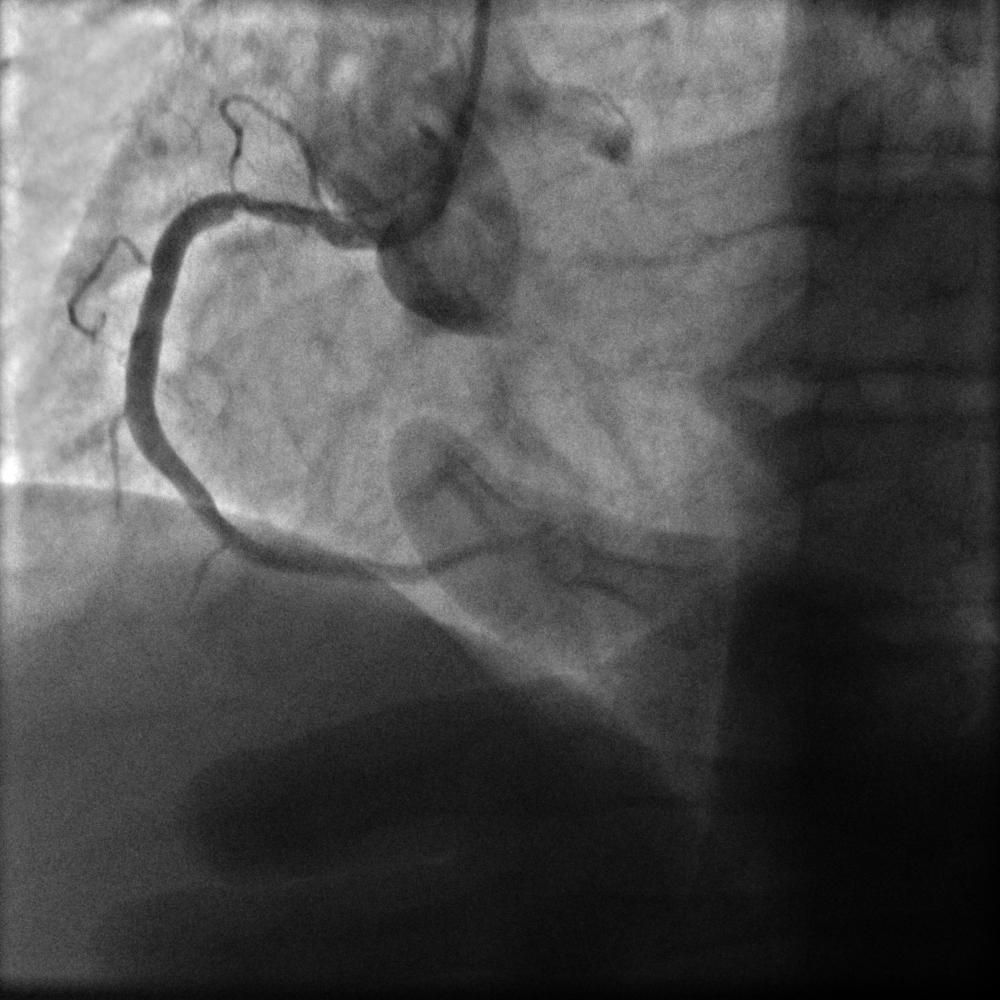Stenosis: (222, 184, 329, 240)
